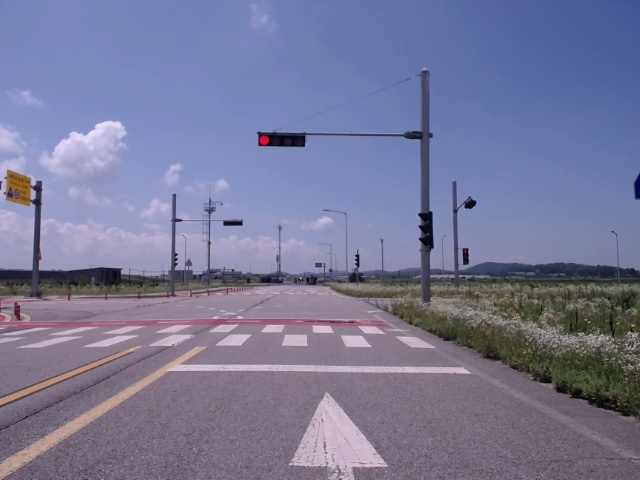red_4: (258, 134, 306, 147)
